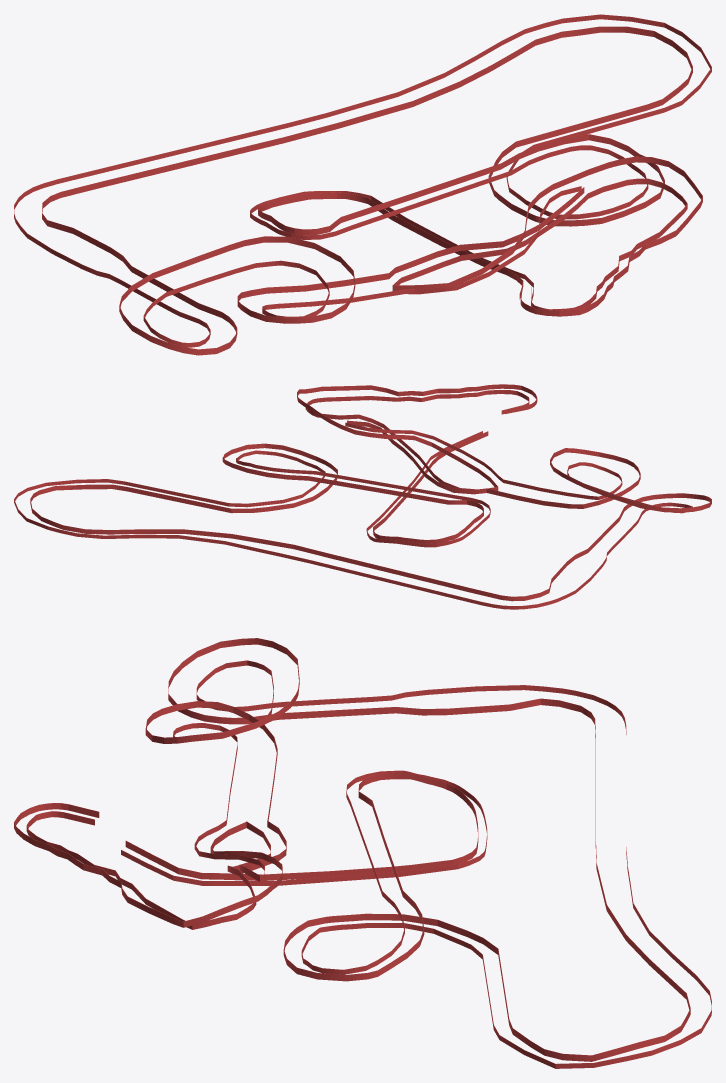
The model's file is Railings.fbx.
3 views of the same model, one above another, from view 1: azimuth 30°, elevation 25°; view 2: azimuth 150°, elevation 25°; view 3: azimuth 270°, elevation 25° (orthographic). The views are drawn at different scales.
Visible parts, largest first — view 1: Rail_02, Rail_01, Rail_04, Rail_03; view 2: Rail_02, Rail_01, Rail_04, Rail_03; view 3: Rail_02, Rail_01, Rail_04, Rail_03.
Boxes of the visible parts, x1,y1,x2,y2 form: Rail_02: (42,26,692,355); Rail_01: (14,14,711,347); Rail_04: (393,156,702,316); Rail_03: (392,178,687,310); Rail_02: (30,420,711,601); Rail_01: (14,422,692,609); Rail_04: (297,384,537,487); Rail_03: (305,390,529,493); Rail_02: (125,638,690,1061); Rail_01: (121,660,711,1068); Rail_04: (14,803,282,927); Rail_03: (26,811,270,929).
Size of the model in its own units: 2324 by 1774 by 213.
